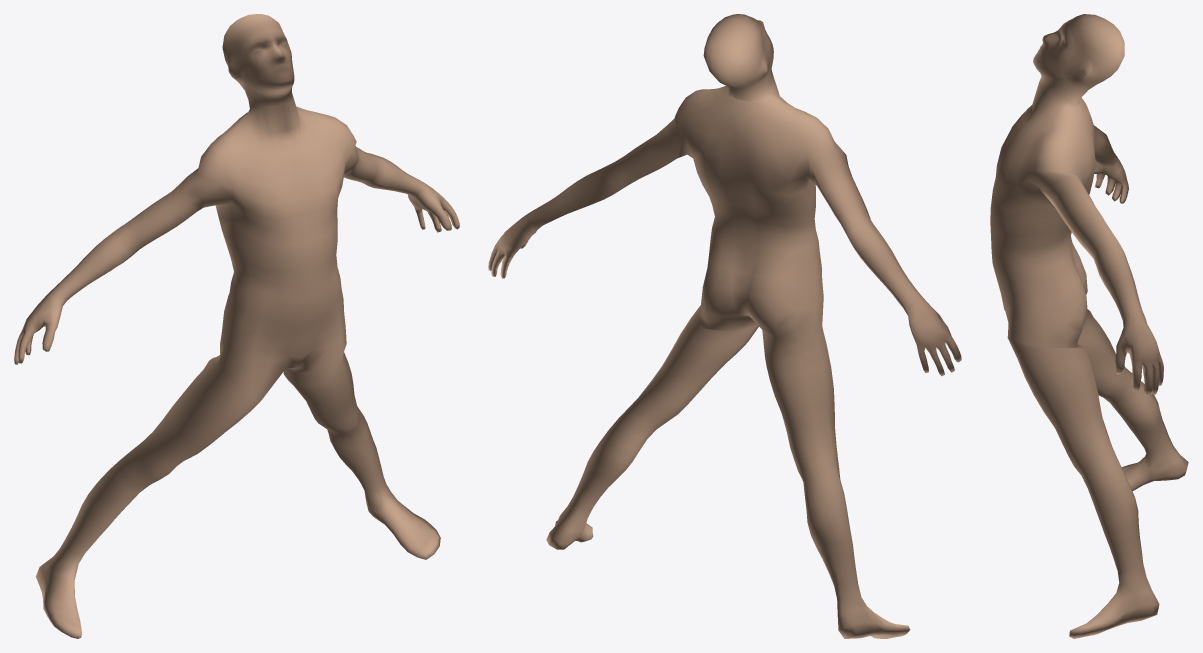
The model's file is Human 1.fbx.
3 renders of one model, left to right at view 1: azimuth 30°, elevation 25°; view 2: azimuth 150°, elevation 25°; view 3: azimuth 270°, elevation 25°, orthographic. The views are drawn at different scales.
Parts seen in each view (by area): view 1: humanBody; view 2: humanBody; view 3: humanBody.
Boxes of the visible parts, x1,y1,x2,y2 form: humanBody: (14,14,459,638); humanBody: (488,14,961,638); humanBody: (990,14,1188,638).
Size of the model in its own units: 142 by 174 by 55.87.
